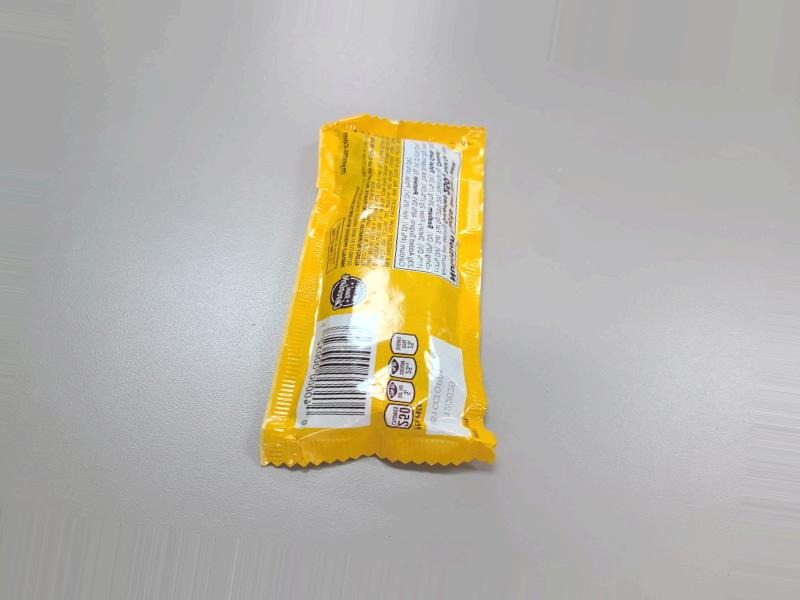m&m: (271, 103, 505, 474)
